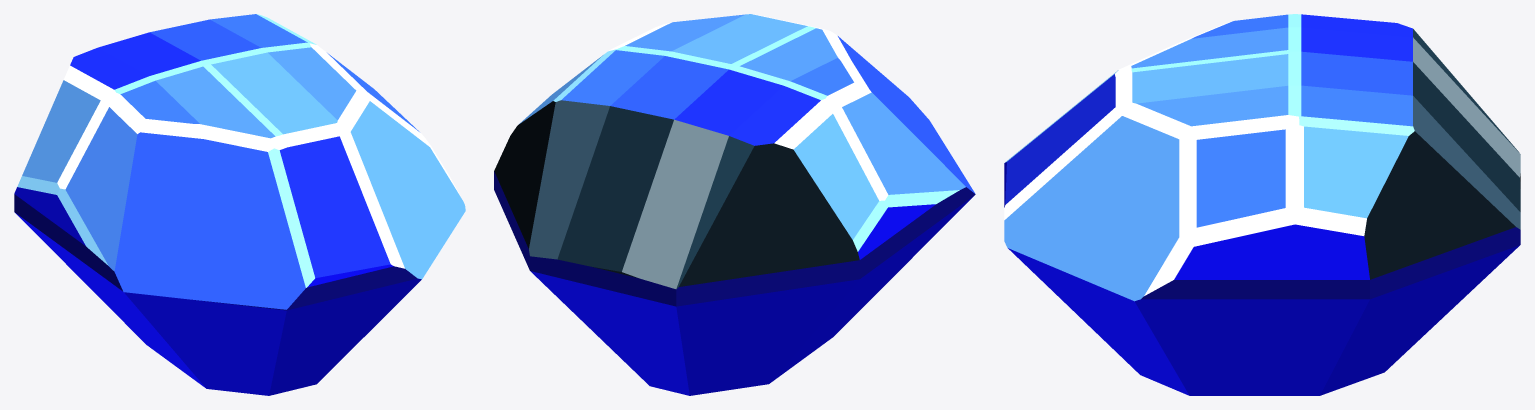
File: crystal_blue.glb
3 views of the same model, side by side, from view 1: azimuth 30°, elevation 25°; view 2: azimuth 150°, elevation 25°; view 3: azimuth 270°, elevation 25° (orthographic). The views are drawn at different scales.
Parts seen in each view (by area): view 1: crystal; view 2: crystal; view 3: crystal.
Boxes of the visible parts, x1,y1,x2,y2 form: crystal: (14,14,465,395); crystal: (494,14,975,395); crystal: (1004,14,1520,395).
Bounding box in the file's own units: 20 × 15.47 × 24.
